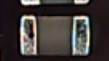COMP: (15, 12, 98, 59)
GAP: (20, 1, 89, 33)
